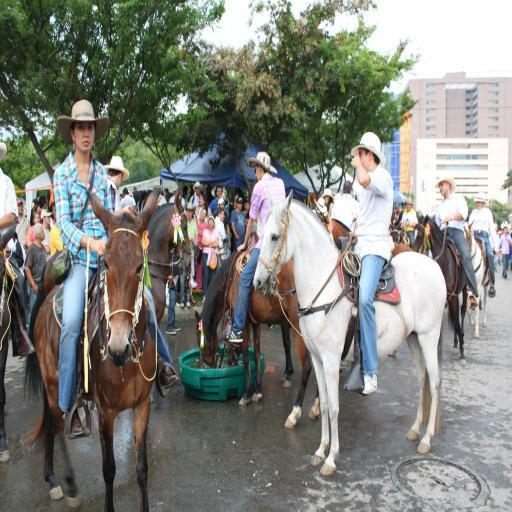horse: (252, 186, 450, 476), (21, 188, 162, 512), (22, 188, 193, 404), (190, 244, 320, 430), (412, 211, 469, 366), (0, 217, 17, 463), (463, 220, 490, 338), (392, 224, 410, 243)
